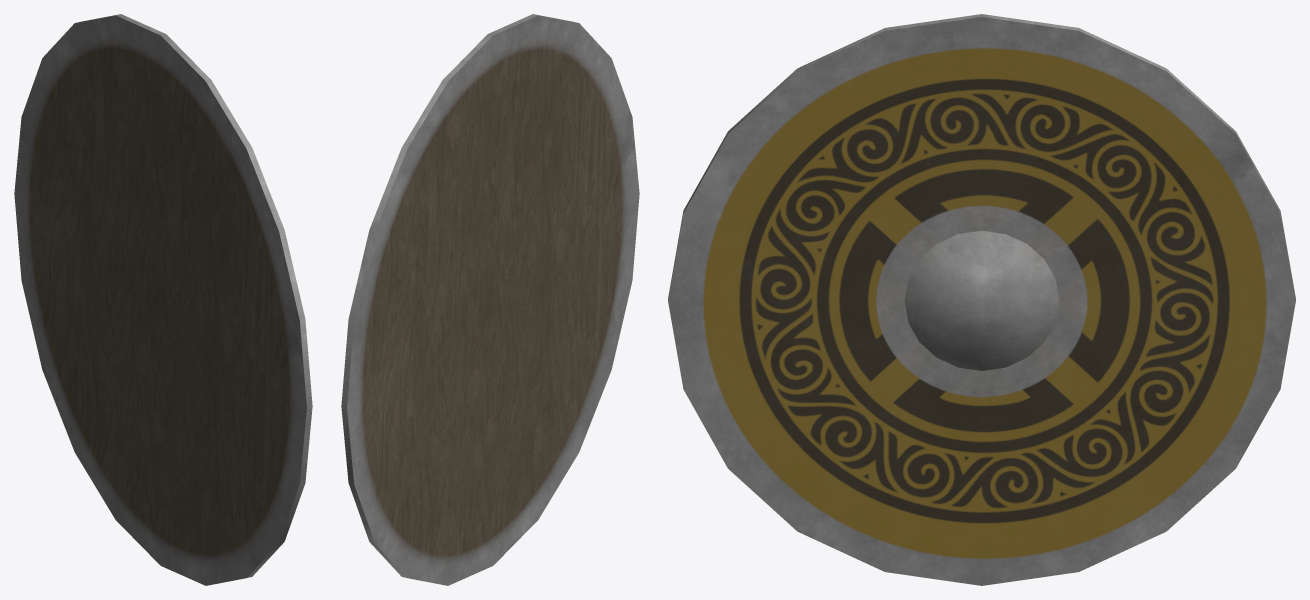
File: G_VikingShield_Knot1_Yellow-Black.glb
3 renders of one model, left to right at view 1: azimuth 30°, elevation 25°; view 2: azimuth 150°, elevation 25°; view 3: azimuth 270°, elevation 25°, orthographic. The views are drawn at different scales.
Parts seen in each view (by area): view 1: G_Shield; view 2: G_Shield; view 3: G_Shield.
Boxes of the visible parts, x1,y1,x2,y2 form: G_Shield: [14, 14, 312, 585]; G_Shield: [341, 14, 639, 585]; G_Shield: [668, 14, 1295, 585].
Bounding box in the file's own units: 0.0373 × 0.72 × 0.72.
Materials: 2 (2 with a texture image).
